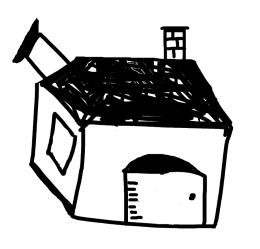chimney: (4, 11, 73, 73), (150, 15, 196, 66)
door: (108, 147, 212, 230)
open_window: (37, 111, 84, 180)
shaded_roof: (35, 52, 242, 140)
wall: (76, 116, 241, 231)
